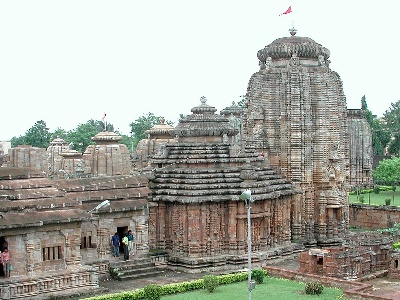amalaka: (237, 24, 348, 66), (79, 127, 132, 151)
gopuram: (238, 70, 359, 208)
